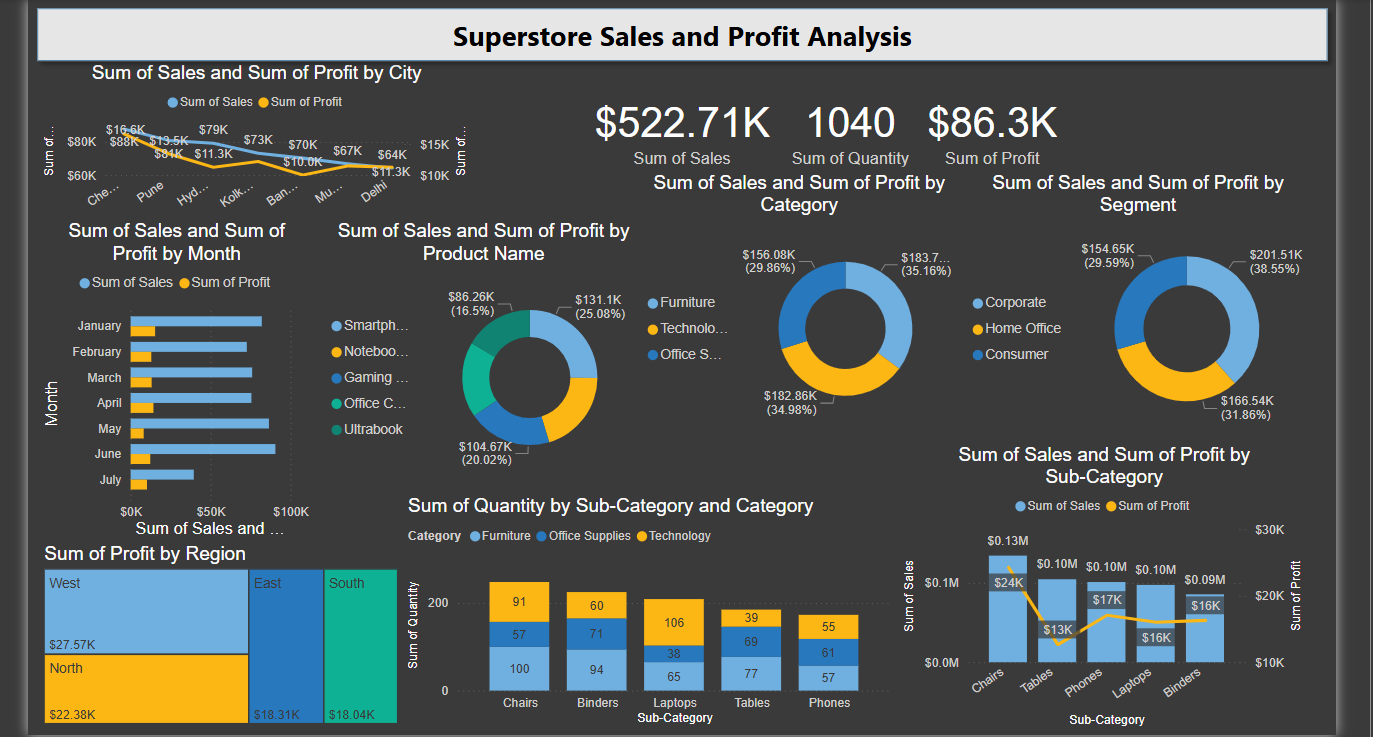

The page's visual inventory and layout, read from the dashboard file:
{"tool":"powerbi","page":{"name":"Page 1","canvas":[1280,720],"ordinal":0},"visuals":[{"type":"card","fields":{"Values":["Sum(Superstore_Sales.Sales)"]},"box":[540.5,88,199.3,80.7],"z":0},{"type":"card","fields":{"Values":["Sum(Superstore_Sales.Profit)"]},"box":[863.3,88,160.2,80.7],"z":1000},{"type":"card","fields":{"Values":["Sum(Superstore_Sales.Quantity)"]},"box":[728.8,88,151.6,80.7],"z":2000},{"type":"donutChart","fields":{"Y":["Sum(Superstore_Sales.Sales)"],"Category":["Superstore_Sales.Category"]},"box":[600.4,168.8,308.2,266.6],"z":3000},{"type":"donutChart","fields":{"Category":["Superstore_Sales.Segment"],"Y":["Sum(Superstore_Sales.Sales)"]},"box":[918.3,168.8,335.1,266.6],"z":4000},{"type":"donutChart","fields":{"Category":["Superstore_Sales.Product Name"],"Y":["Sum(Superstore_Sales.Sales)"]},"box":[291,216.4,309.4,266.6],"z":5000},{"type":"lineStackedColumnComboChart","fields":{"Category":["Superstore_Sales.Sub-Category"],"Y":["Sum(Superstore_Sales.Sales)"],"Y2":["Sum(Superstore_Sales.Profit)"]},"box":[852.3,435.3,401.1,281.3],"z":6000},{"type":"columnChart","fields":{"Category":["Superstore_Sales.Sub-Category"],"Y":["Sum(Superstore_Sales.Quantity)"],"Series":["Superstore_Sales.Category"]},"box":[366.8,485.5,483,229.9],"z":7000},{"type":"treemap","fields":{"Group":["Superstore_Sales.Region"],"Values":["Sum(Superstore_Sales.Profit)"]},"box":[11,531.9,355.8,182.2],"z":8000},{"type":"clusteredBarChart","fields":{"Category":["Superstore_Sales.Order Date.Variation.Date Hierarchy.Month"],"Y":["Sum(Superstore_Sales.Sales)","Sum(Superstore_Sales.Profit)"]},"box":[11,216.4,269,315.5],"z":9000},{"type":"lineChart","fields":{"Category":["Superstore_Sales.City"],"Y":["Sum(Superstore_Sales.Sales)"],"Y2":["Sum(Superstore_Sales.Profit)"]},"box":[11,61.1,425.5,155.3],"z":11000},{"type":"shape","box":[0,0,1280.3,69.7],"z":12000}]}

Visuals, with their boxes on the page's 1280x720 design canvas (x1, y1, x2, y2). These are canvas units, not pixel positions in the 1373x737 screenshot, which may show the page scaled, cropped or inside an application window:
card - Sum(Superstore_Sales.Sales): {"left": 540, "top": 88, "right": 740, "bottom": 169}
card - Sum(Superstore_Sales.Profit): {"left": 863, "top": 88, "right": 1024, "bottom": 169}
card - Sum(Superstore_Sales.Quantity): {"left": 729, "top": 88, "right": 880, "bottom": 169}
donutChart - Sum(Superstore_Sales.Sales) x Superstore_Sales.Category: {"left": 600, "top": 169, "right": 909, "bottom": 435}
donutChart - Superstore_Sales.Segment x Sum(Superstore_Sales.Sales): {"left": 918, "top": 169, "right": 1253, "bottom": 435}
donutChart - Superstore_Sales.Product Name x Sum(Superstore_Sales.Sales): {"left": 291, "top": 216, "right": 600, "bottom": 483}
lineStackedColumnComboChart - Superstore_Sales.Sub-Category x Sum(Superstore_Sales.Sales): {"left": 852, "top": 435, "right": 1253, "bottom": 717}
columnChart - Superstore_Sales.Sub-Category x Sum(Superstore_Sales.Quantity): {"left": 367, "top": 486, "right": 850, "bottom": 715}
treemap - Superstore_Sales.Region x Sum(Superstore_Sales.Profit): {"left": 11, "top": 532, "right": 367, "bottom": 714}
clusteredBarChart - Superstore_Sales.Order Date.Variation.Date Hierarchy.Month x Sum(Superstore_Sales.Sales): {"left": 11, "top": 216, "right": 280, "bottom": 532}
lineChart - Superstore_Sales.City x Sum(Superstore_Sales.Sales): {"left": 11, "top": 61, "right": 436, "bottom": 216}
shape: {"left": 0, "top": 0, "right": 1280, "bottom": 70}
